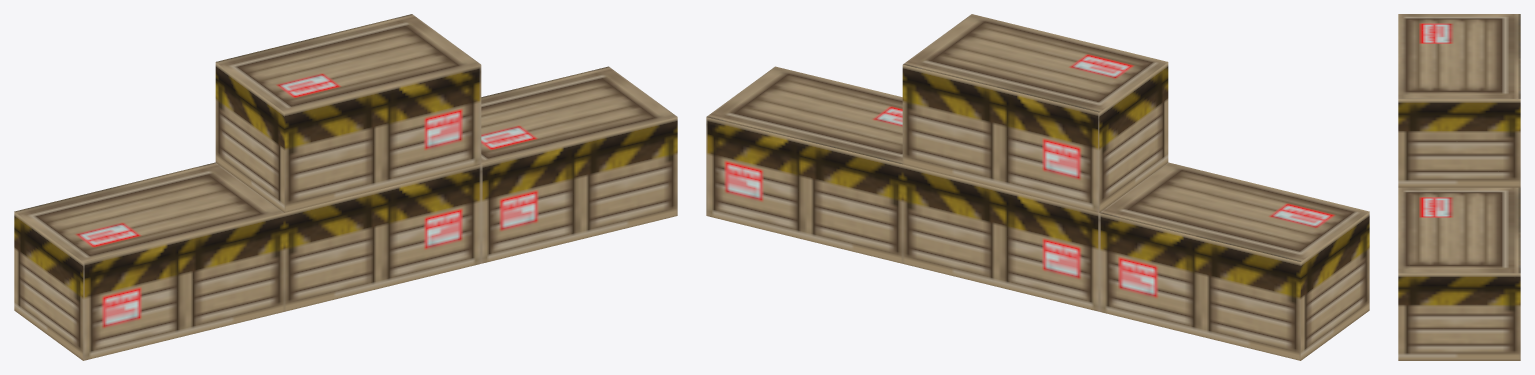
Rendered from munitionscrates.glb.
The picture shows the model from 3 angles, left to right: view 1: azimuth 30°, elevation 25°; view 2: azimuth 150°, elevation 25°; view 3: azimuth 270°, elevation 25°; orthographic projection. The views are drawn at different scales.
Parts seen in each view (by area): view 1: ammocrates; view 2: ammocrates; view 3: ammocrates.
Part boxes in pixels (x1,y1,x2,y2): ammocrates: (14, 14, 677, 360); ammocrates: (706, 14, 1369, 360); ammocrates: (1398, 14, 1520, 360).
Bounding box in the file's own units: 8.44 × 2.71 × 1.7.
1 material, 1 textured.
